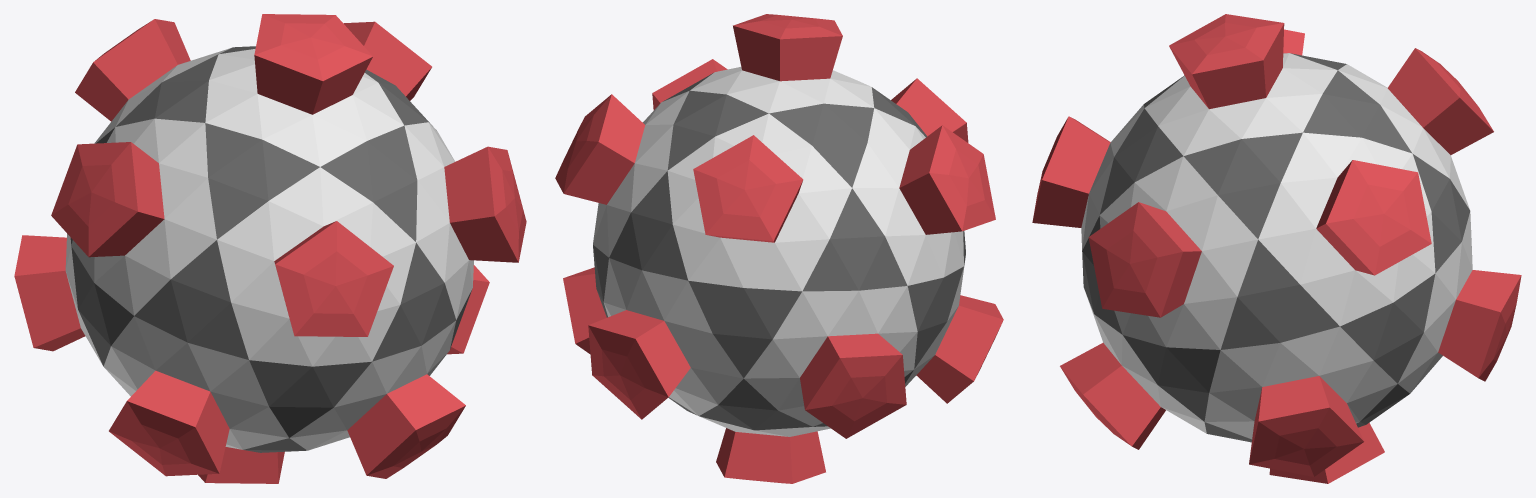
Rendered from ssrf.fbx.
The picture shows the model from 3 angles, left to right: view 1: azimuth 30°, elevation 25°; view 2: azimuth 150°, elevation 25°; view 3: azimuth 270°, elevation 25°; orthographic projection. The views are drawn at different scales.
Visible parts, largest first — view 1: ssrf; view 2: ssrf; view 3: ssrf.
Part boxes in pixels (<box>): ssrf: <box>14,14,526,483</box>; ssrf: <box>555,14,1003,483</box>; ssrf: <box>1032,14,1521,483</box>.
Size of the model in its own units: 118 by 125 by 124.
